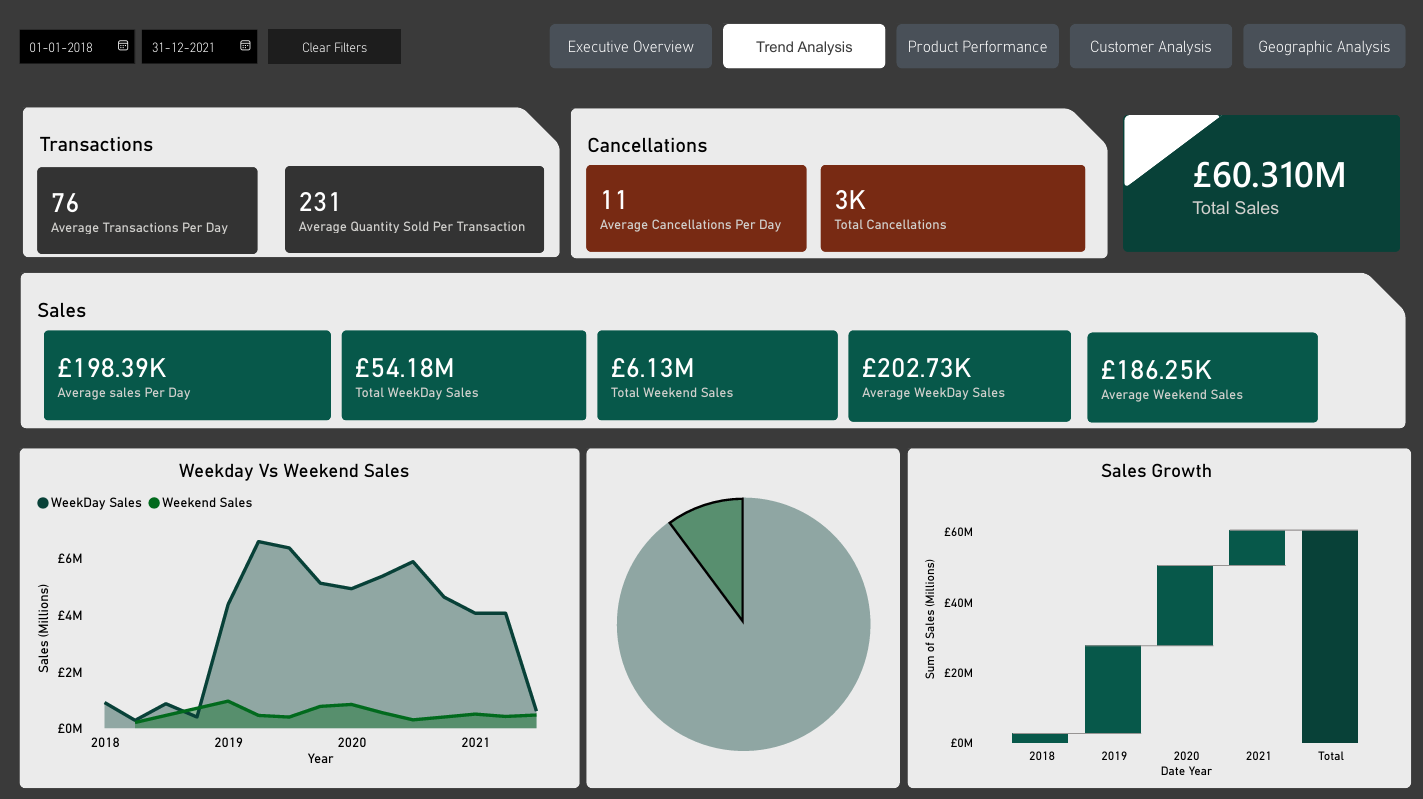

What the dashboard file says about the page in this screenshot:
{"tool":"powerbi","page":{"name":"Trend Analysis","canvas":[1280,720],"ordinal":1},"visuals":[{"type":"shape","box":[512.5,96.9,482.5,135],"z":0,"group":"g1"},{"type":"shape","box":[527.1,402.9,281.4,305.7],"z":0},{"type":"shape","box":[20,95.7,482.9,135.7],"z":1000},{"type":"shape","box":[816.2,402.5,452.5,306.2],"z":2000},{"type":"shape","box":[17.1,402.9,504.3,305.7],"z":3000},{"type":"cardVisual","fields":{"Data":["Date.Average Cancellations Per Day"]},"box":[521.6,143.1,207.5,88.2],"z":4000,"group":"g1"},{"type":"shape","box":[18.1,245,1246.2,140],"z":4000},{"type":"slicer","fields":{"Values":["Date.Date"]},"box":[4.3,15.7,260,51.4],"z":5000},{"type":"areaChart","title":"Weekday Vs Weekend Sales","fields":{"Category":["Date.Date.Variation.Date Hierarchy.Year","Date.Date.Variation.Date Hierarchy.Quarter","Date.Date.Variation.Date Hierarchy.Month","Date.Date.Variation.Date Hierarchy.Day"],"Y":["Date.WeekDay Sales","Date.Weekend Sales"]},"box":[27.1,412.9,474.3,280],"z":6000},{"type":"waterfallChart","title":"Sales Growth","fields":{"Category":["Date.Date.Variation.Date Hierarchy.Year"],"Y":["Sum(Sales.Sales)"]},"box":[826.2,412.5,427.5,292.5],"z":7000},{"type":"cardVisual","fields":{"Data":["Products.Average Order Value Per Day"]},"box":[33.8,291.9,268,91.4],"z":8000},{"type":"cardVisual","fields":{"Data":["Date.Cancellation Count"]},"box":[732.8,143.1,247.5,88.2],"z":9000,"group":"g1"},{"type":"cardVisual","fields":{"Data":["Date.Average Transactions Per Day"]},"box":[28.1,144.6,207.5,87.9],"z":9000},{"type":"group","id":"g1","title":"Group 1","box":[512.5,96.9,482.5,135],"z":10000},{"type":"cardVisual","fields":{"Data":["Products.Gross Sales"]},"box":[1005,97.5,258.8,133.8],"z":11000},{"type":"cardVisual","fields":{"Data":["Date.WeekDay Sales"]},"box":[301.8,291.9,229.7,91.4],"z":12000},{"type":"cardVisual","fields":{"Data":["Date.Weekend Sales"]},"box":[531.5,291.9,226.6,91.4],"z":13000},{"type":"cardVisual","fields":{"Data":["Date.Average WeekDay Sales"]},"box":[757.8,292.1,210.6,91.4],"z":14000},{"type":"cardVisual","fields":{"Data":["Date.Average Weekend Sales"]},"box":[973.2,293.6,217,91.4],"z":15000},{"type":"cardVisual","fields":{"Data":["Date.Average Quantity Sold Per Transaction"]},"box":[250.6,144,243.8,87.9],"z":16000},{"type":"shape","box":[1011.2,102.5,87.5,66.2],"z":17000},{"type":"actionButton","box":[241.4,25.7,118.6,31.4],"z":18000},{"type":"pageNavigator","box":[493.8,21.2,770,40],"z":19000},{"type":"pieChart","fields":{"Y":["Date.WeekDay Sales","Date.Weekend Sales"]},"box":[521.4,402.9,294.3,317.1],"z":20000}]}

Visuals, with their boxes in screenshot pixels (x1, y1, x2, y2), scaled from the page's 1280x720 canvas onto the 1423x799 screenshot:
shape: x1=570, y1=108, x2=1106, y2=257
shape: x1=586, y1=447, x2=899, y2=786
shape: x1=22, y1=106, x2=559, y2=257
shape: x1=907, y1=447, x2=1410, y2=786
shape: x1=19, y1=447, x2=580, y2=786
cardVisual - Date.Average Cancellations Per Day: x1=580, y1=159, x2=811, y2=257
shape: x1=20, y1=272, x2=1406, y2=427
slicer - Date.Date: x1=5, y1=17, x2=294, y2=74
"Weekday Vs Weekend Sales" areaChart: x1=30, y1=458, x2=557, y2=769
"Sales Growth" waterfallChart: x1=919, y1=458, x2=1394, y2=782
cardVisual - Products.Average Order Value Per Day: x1=38, y1=324, x2=336, y2=425
cardVisual - Date.Cancellation Count: x1=815, y1=159, x2=1090, y2=257
cardVisual - Date.Average Transactions Per Day: x1=31, y1=160, x2=262, y2=258
"Group 1" group: x1=570, y1=108, x2=1106, y2=257
cardVisual - Products.Gross Sales: x1=1117, y1=108, x2=1405, y2=257
cardVisual - Date.WeekDay Sales: x1=336, y1=324, x2=591, y2=425
cardVisual - Date.Weekend Sales: x1=591, y1=324, x2=843, y2=425
cardVisual - Date.Average WeekDay Sales: x1=842, y1=324, x2=1077, y2=426
cardVisual - Date.Average Weekend Sales: x1=1082, y1=326, x2=1323, y2=427
cardVisual - Date.Average Quantity Sold Per Transaction: x1=279, y1=160, x2=550, y2=257
shape: x1=1124, y1=114, x2=1221, y2=187
actionButton: x1=268, y1=29, x2=400, y2=63
pageNavigator: x1=549, y1=24, x2=1405, y2=68
pieChart - Date.WeekDay Sales x Date.Weekend Sales: x1=580, y1=447, x2=907, y2=798
